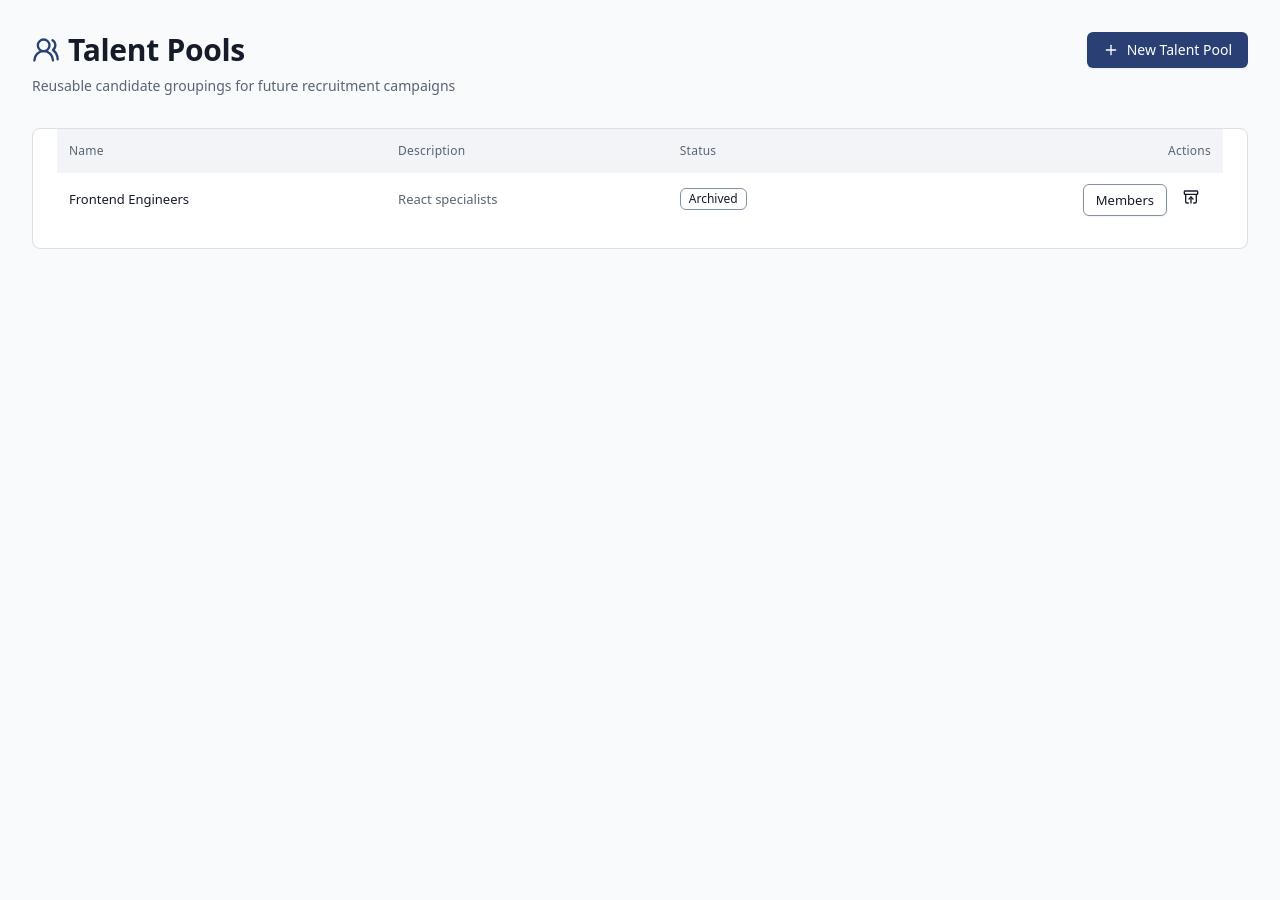
Test: Talent Pools list page › confirmation dialogs › asks before reactivating an archived pool
The image size is (1280, 900).
Click the button with test id "button-reactivate-pool-1".
click(1191, 197)  # box [1171,181,1211,213]
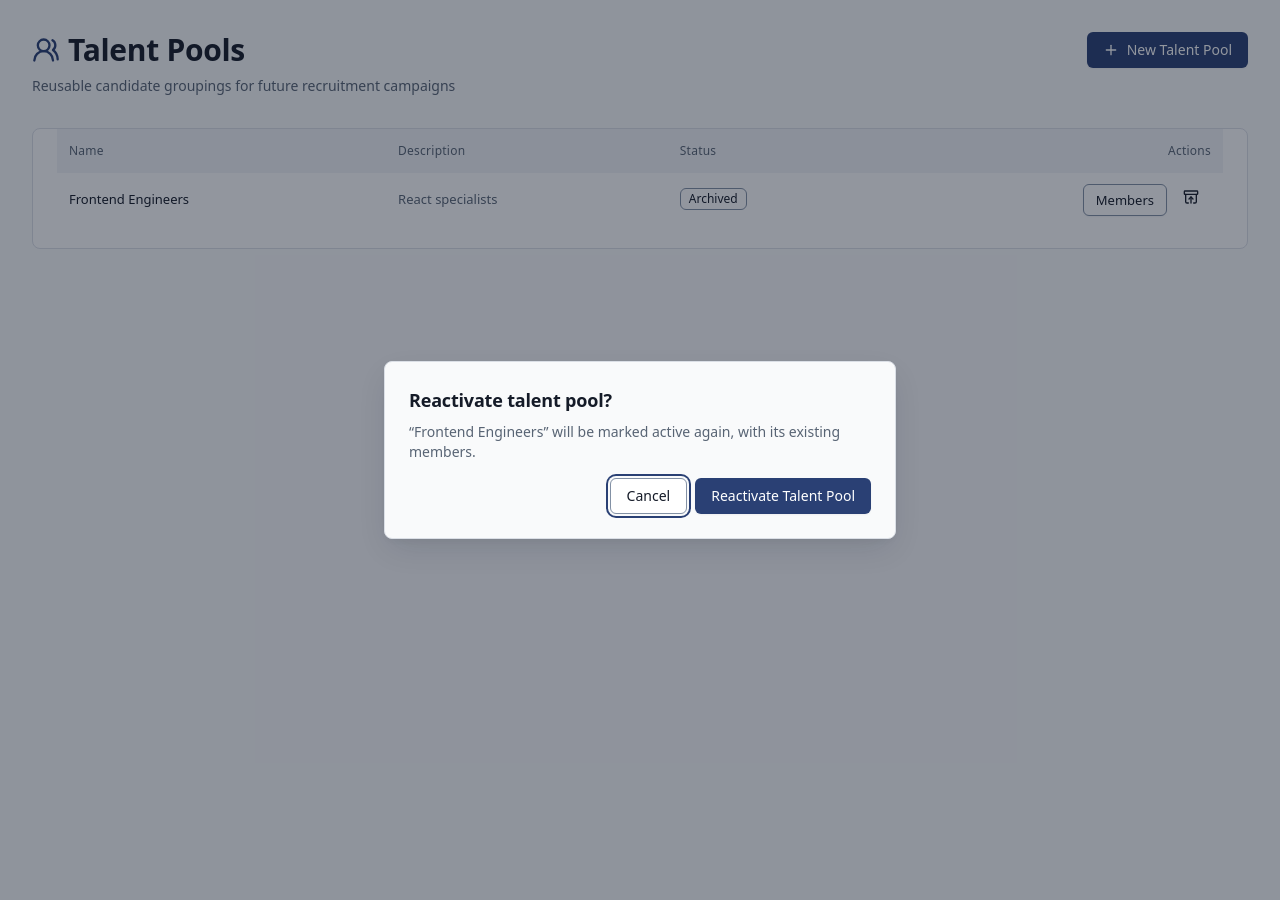
Check: the dialog with test id "dialog-reactivate-talent-pool" shows "Reactivate talent pool?", box [409,388,612,412]
Click the button with test id "dialog-reactivate-talent-pool-confirm".
click(783, 496)  # box [695,478,871,514]
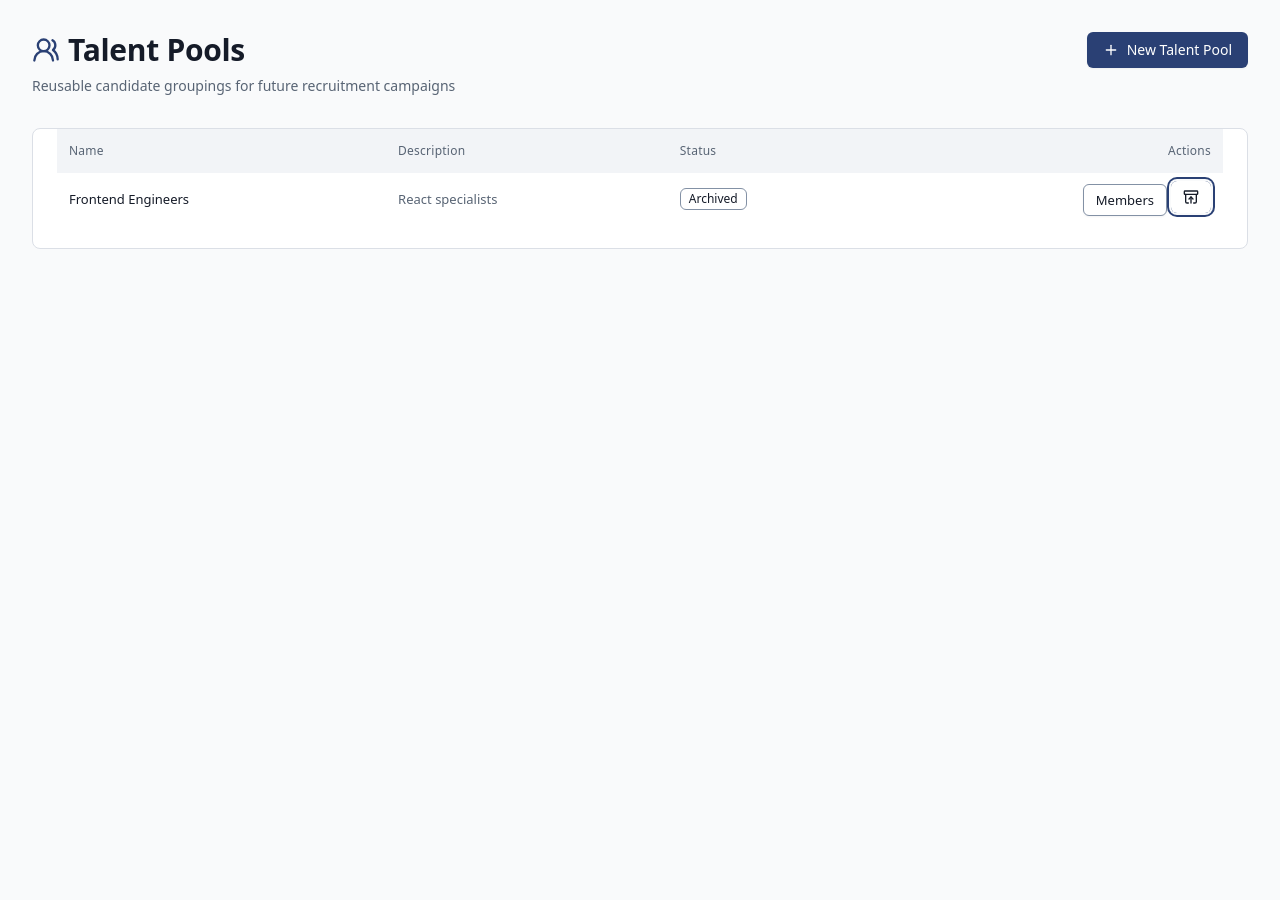
Check: the dialog with test id "dialog-reactivate-talent-pool" is gone
